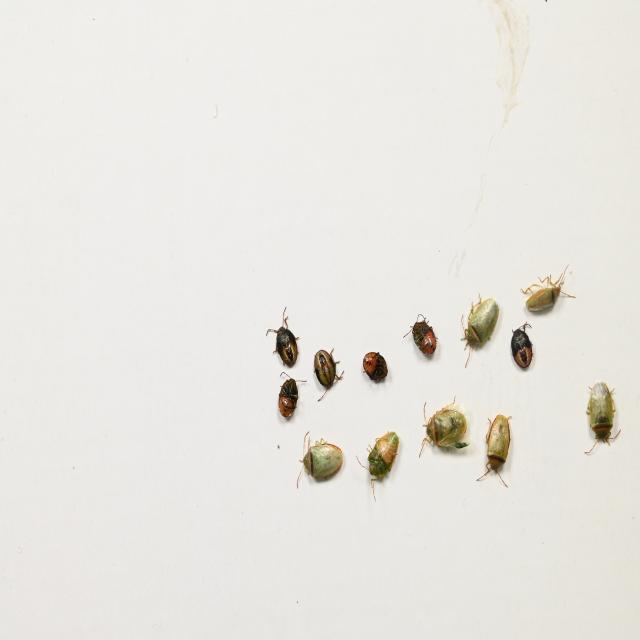stinkbug: (356, 429, 399, 502), (418, 396, 469, 457), (462, 292, 500, 370), (582, 378, 622, 452), (295, 428, 344, 488), (475, 411, 512, 490), (520, 264, 579, 313)
